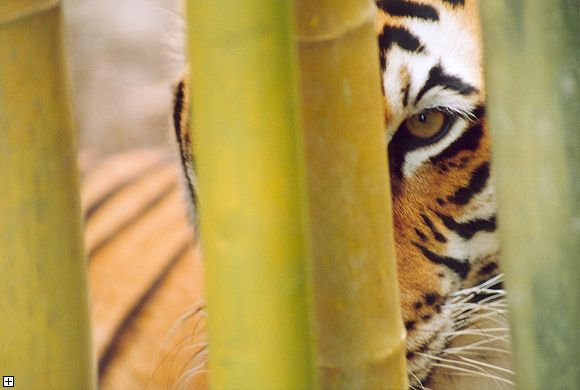Tigre: (390, 22, 484, 326)
